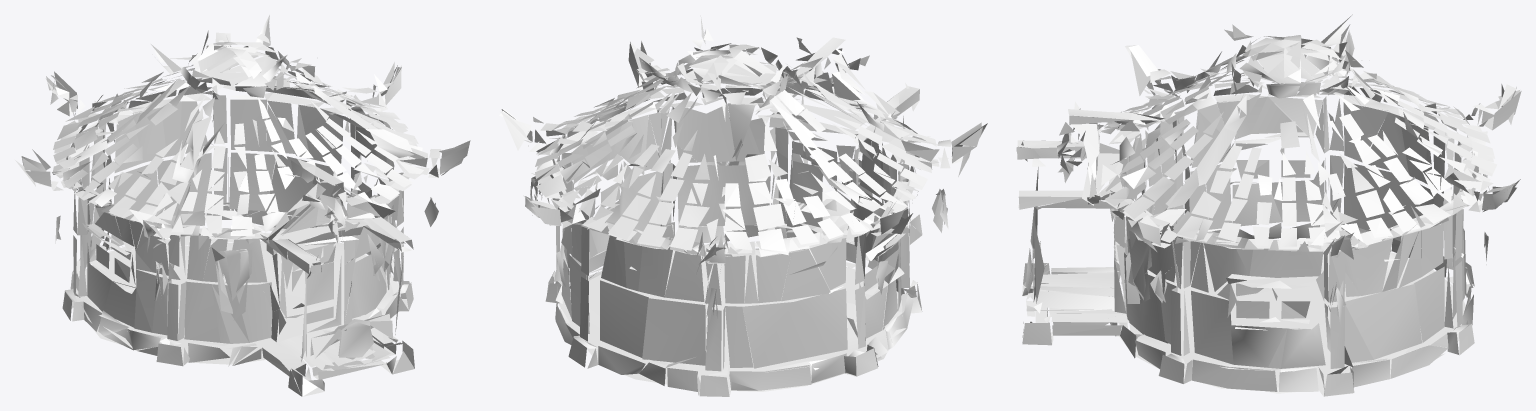
Rendered from yurt_noble_lod2.glb.
The picture shows the model from 3 angles, left to right: view 1: azimuth 30°, elevation 25°; view 2: azimuth 150°, elevation 25°; view 3: azimuth 270°, elevation 25°; orthographic projection. The views are drawn at different scales.
Visible parts, largest first — view 1: yurt_noble; view 2: yurt_noble; view 3: yurt_noble.
Part boxes in pixels (<box>): yurt_noble: <box>15,15,470,396</box>; yurt_noble: <box>499,15,987,396</box>; yurt_noble: <box>1016,14,1521,396</box>.
Bounding box in the file's own units: 12.69 × 8.06 × 13.08.
Materials: 1 (1 with a texture image).
